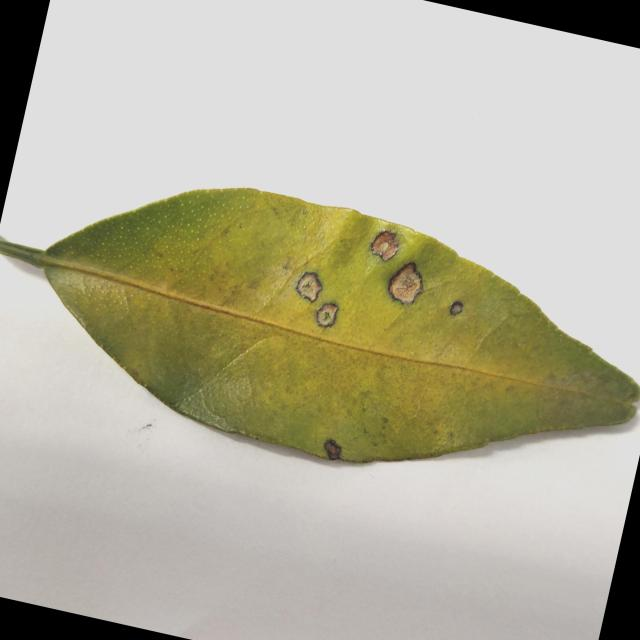antracnose: (0, 188, 640, 462), (389, 263, 422, 304), (297, 273, 322, 301), (353, 165, 379, 185), (317, 303, 338, 327), (324, 439, 341, 460), (450, 300, 463, 315)
